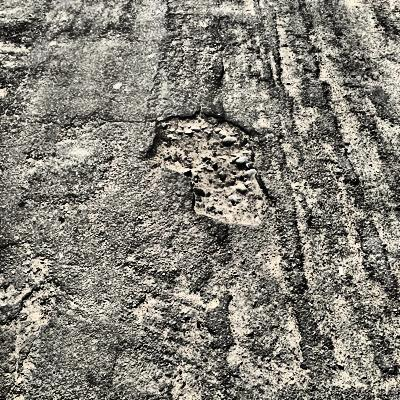pothole: (143, 108, 274, 230)
